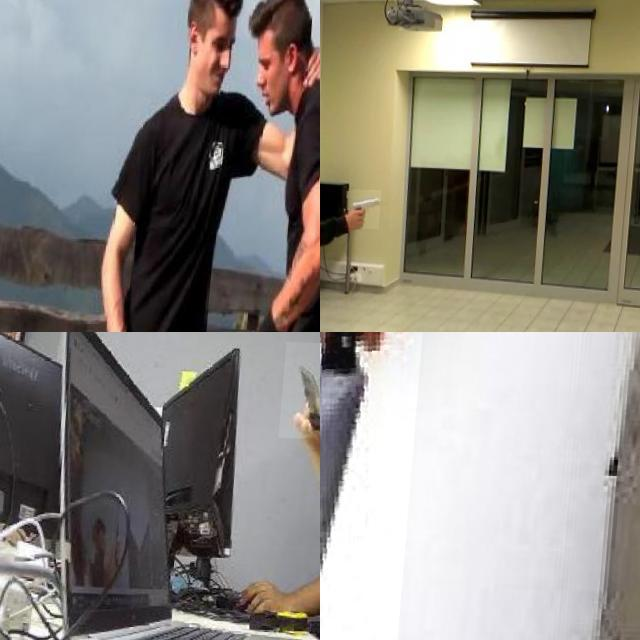-: (320, 332, 431, 640), (284, 339, 320, 436)
gun-knife-thesis - v11 Yolov5 augmented: (351, 188, 387, 228)
